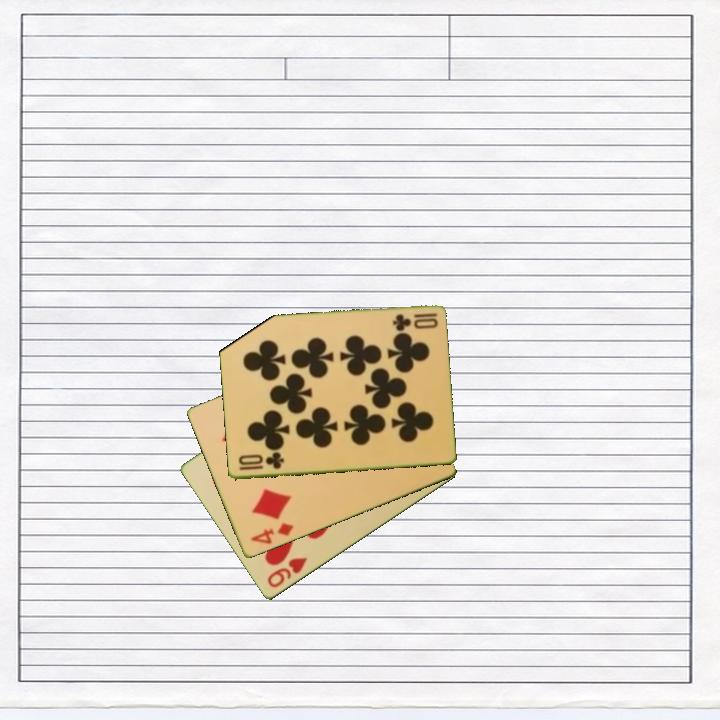10c: (234, 450, 287, 473), (389, 310, 440, 333)
4d: (246, 520, 296, 548)
9h: (264, 554, 310, 591)
